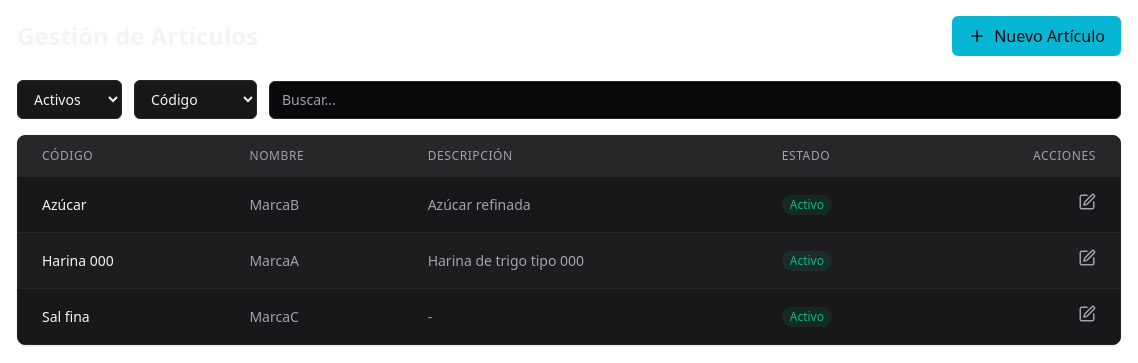
Scenario: ArticulosPage › switching status dropdown to "Inactivos" shows only inactivos
Expected: the text "Harina 000" is shown, [18, 232, 225, 288]
Select "Inactivos" in the 1st dropdown at (70, 100), box [17, 80, 122, 119]
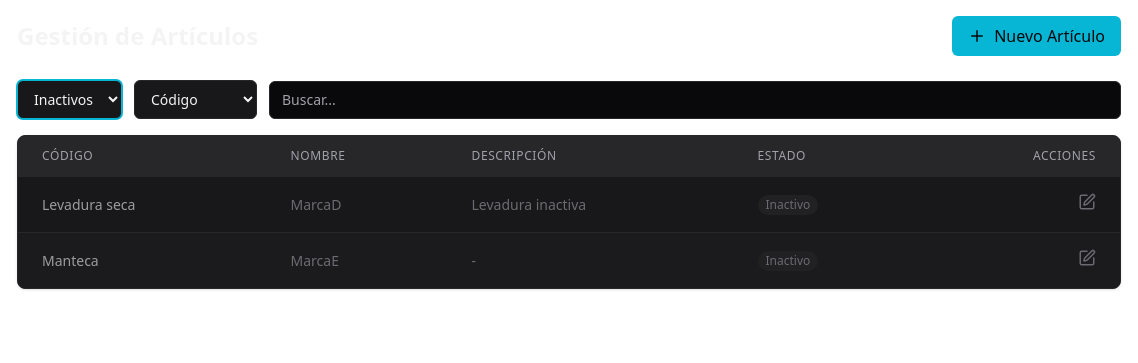
Expected: the text "Levadura seca" is shown, [18, 176, 267, 232]
Expected: the text "Manteca" is shown, [18, 232, 267, 288]
Expected: the text "Harina 000" is gone
